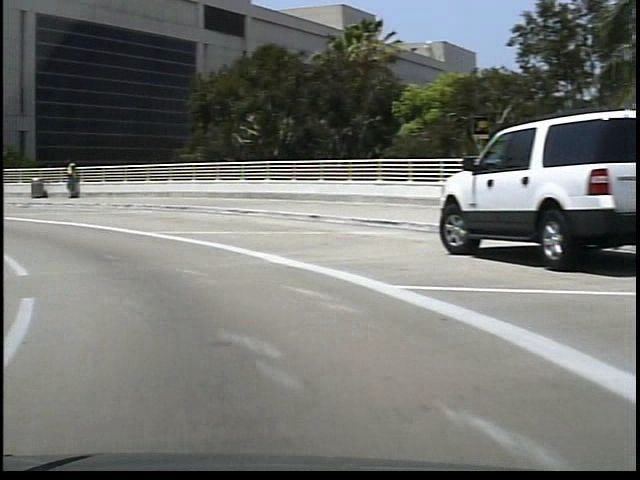person: (60, 154, 78, 199)
